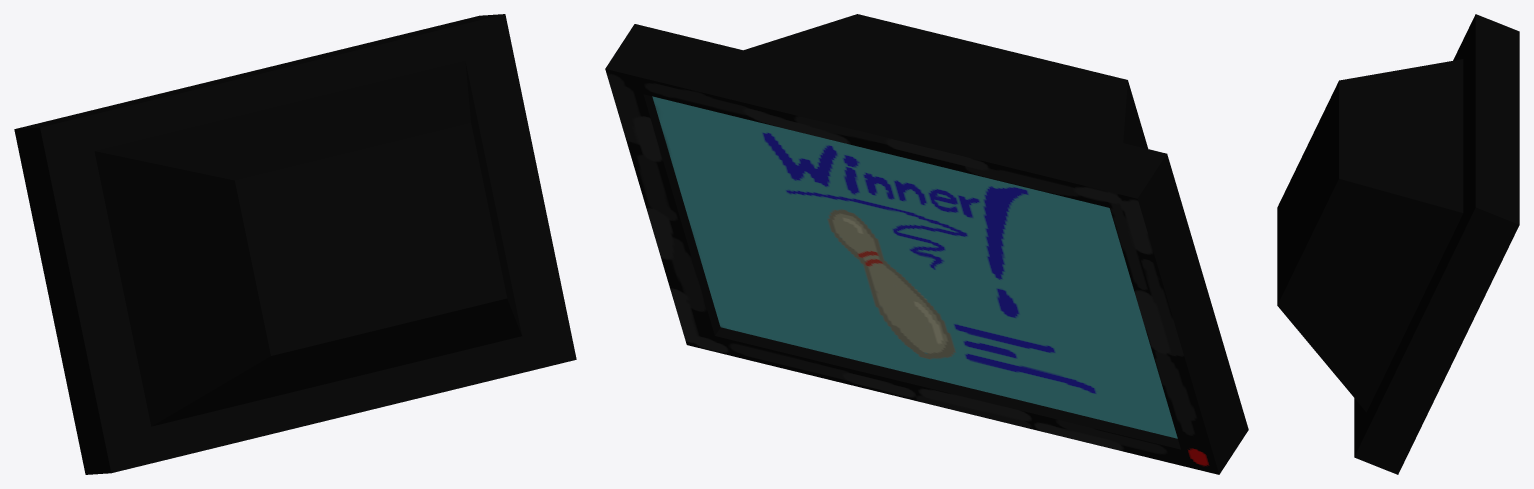
File: TVfbx.fbx
The picture shows the model from 3 angles, left to right: view 1: azimuth 30°, elevation 25°; view 2: azimuth 150°, elevation 25°; view 3: azimuth 270°, elevation 25°; orthographic projection. The views are drawn at different scales.
Visible parts, largest first — view 1: Cube.067; view 2: Cube.067; view 3: Cube.067.
Boxes of the visible parts, x1,y1,x2,y2 form: Cube.067: (14,14,576,474); Cube.067: (605,14,1248,474); Cube.067: (1277,14,1519,474).
Bounding box in the file's own units: 1513 × 976 × 801.
